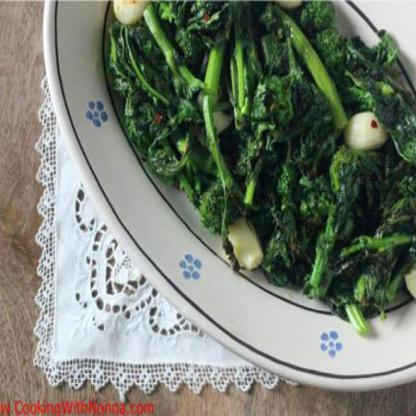broccoli: (108, 0, 416, 334)
